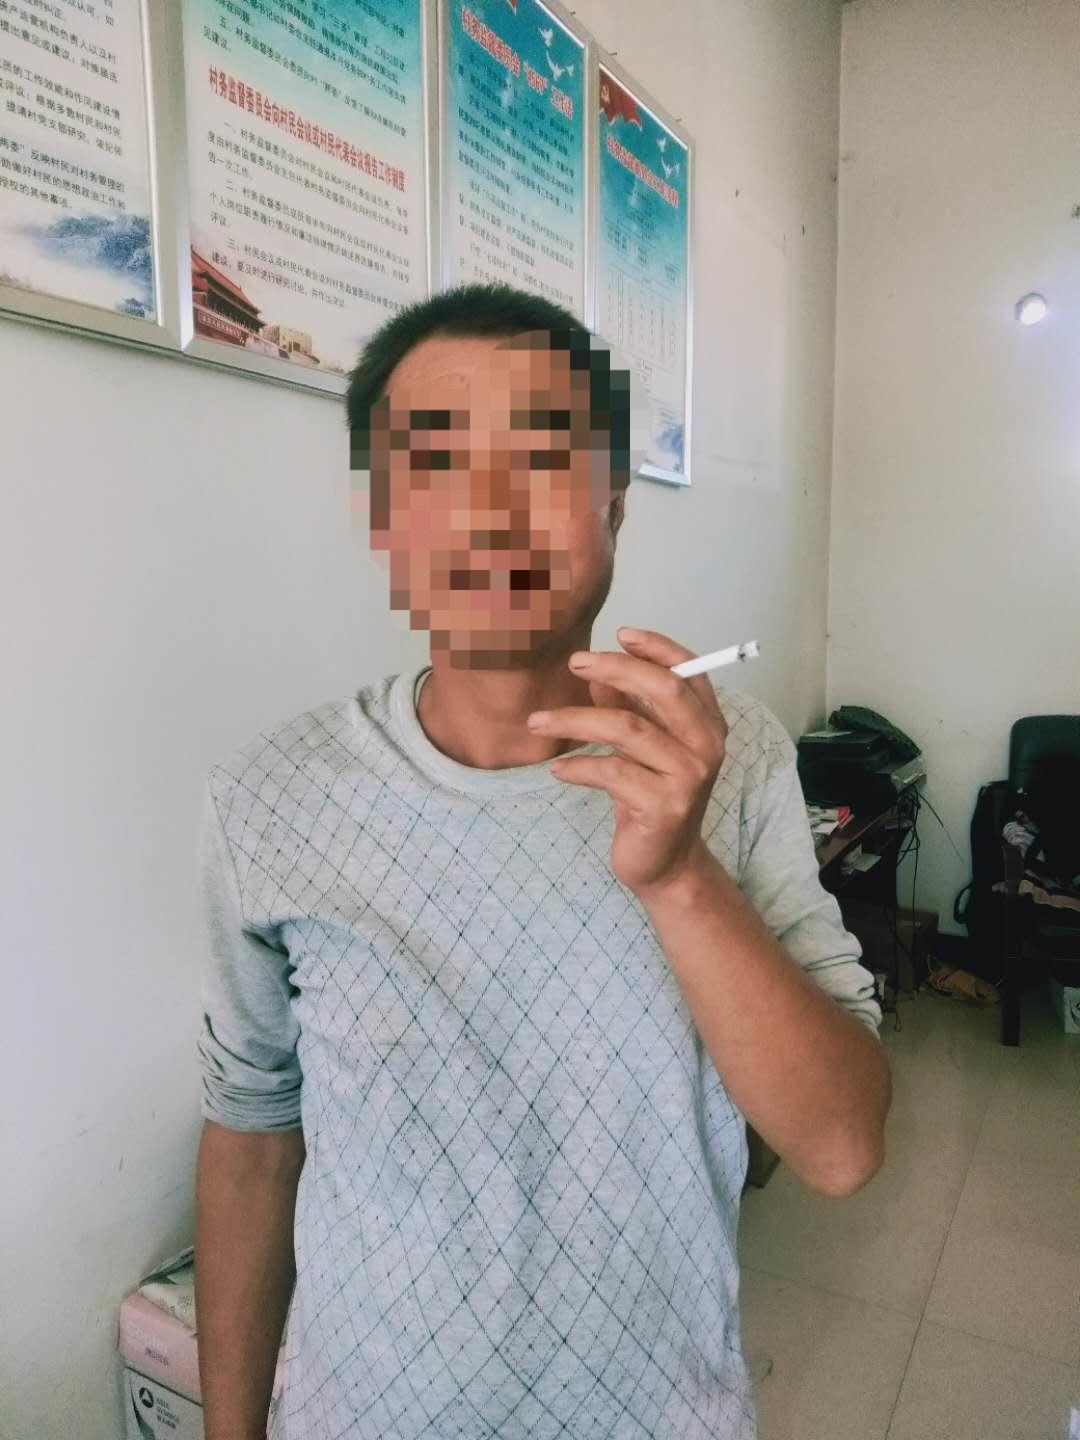smoke: (674, 637, 770, 681)
